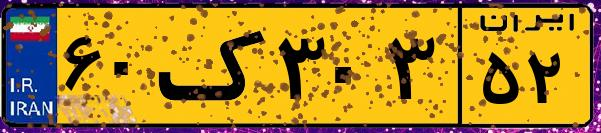0: (330, 28, 385, 110), (110, 28, 158, 98)
2: (525, 38, 570, 115)
3: (270, 28, 330, 110), (385, 28, 445, 110)
5: (475, 38, 525, 113)
6: (57, 26, 110, 100)
ک: (158, 12, 270, 120)
